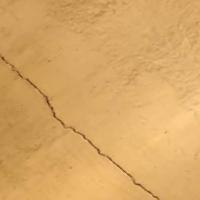crack: (1, 48, 158, 198)
